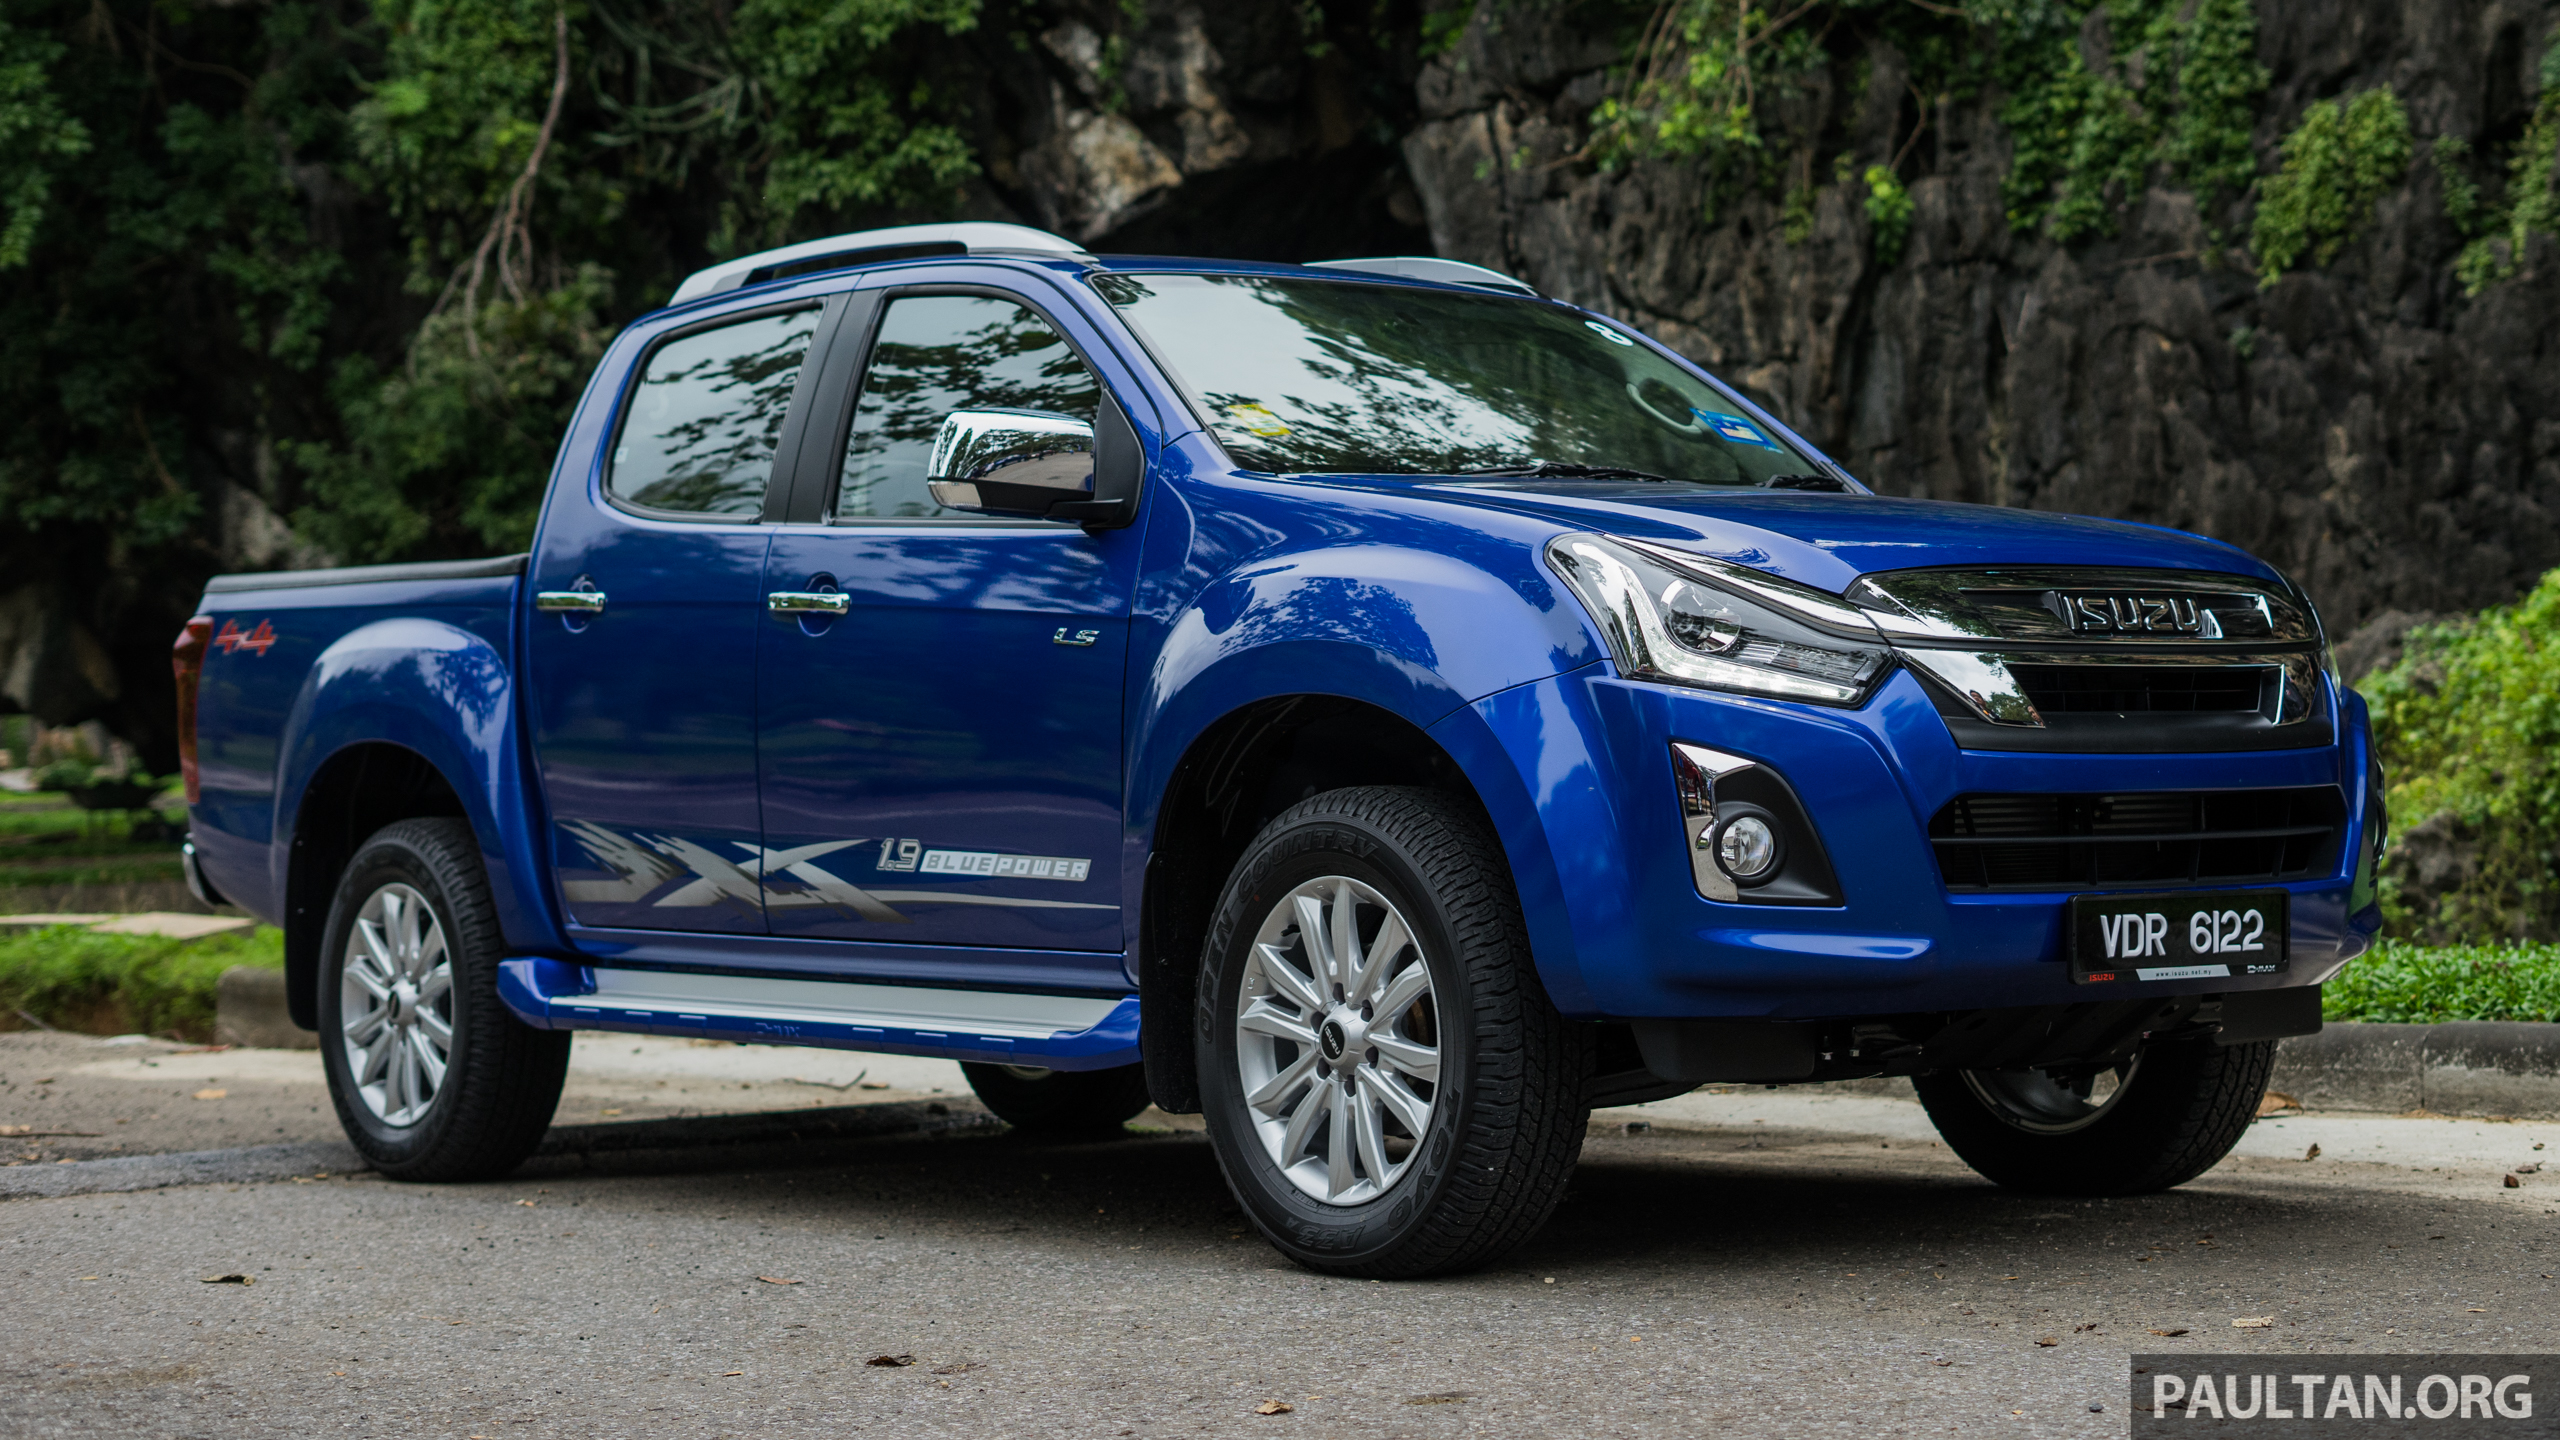pickup: (171, 209, 2398, 1284)
